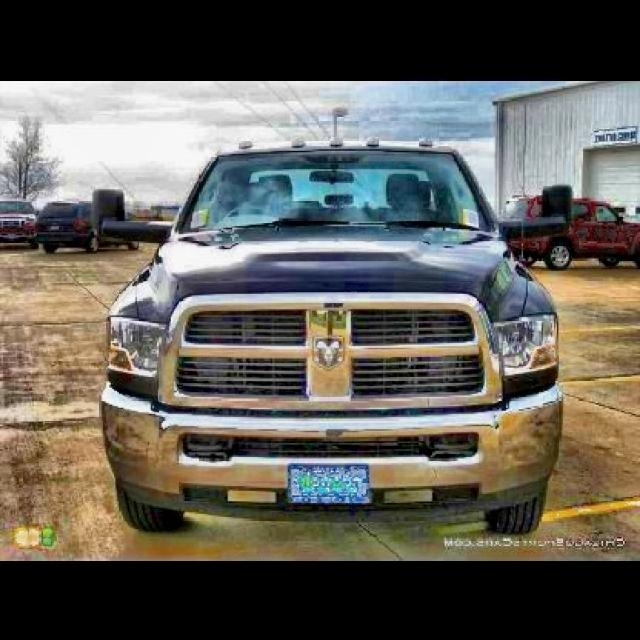black: (102, 143, 562, 539)
maroon: (490, 194, 639, 268)
